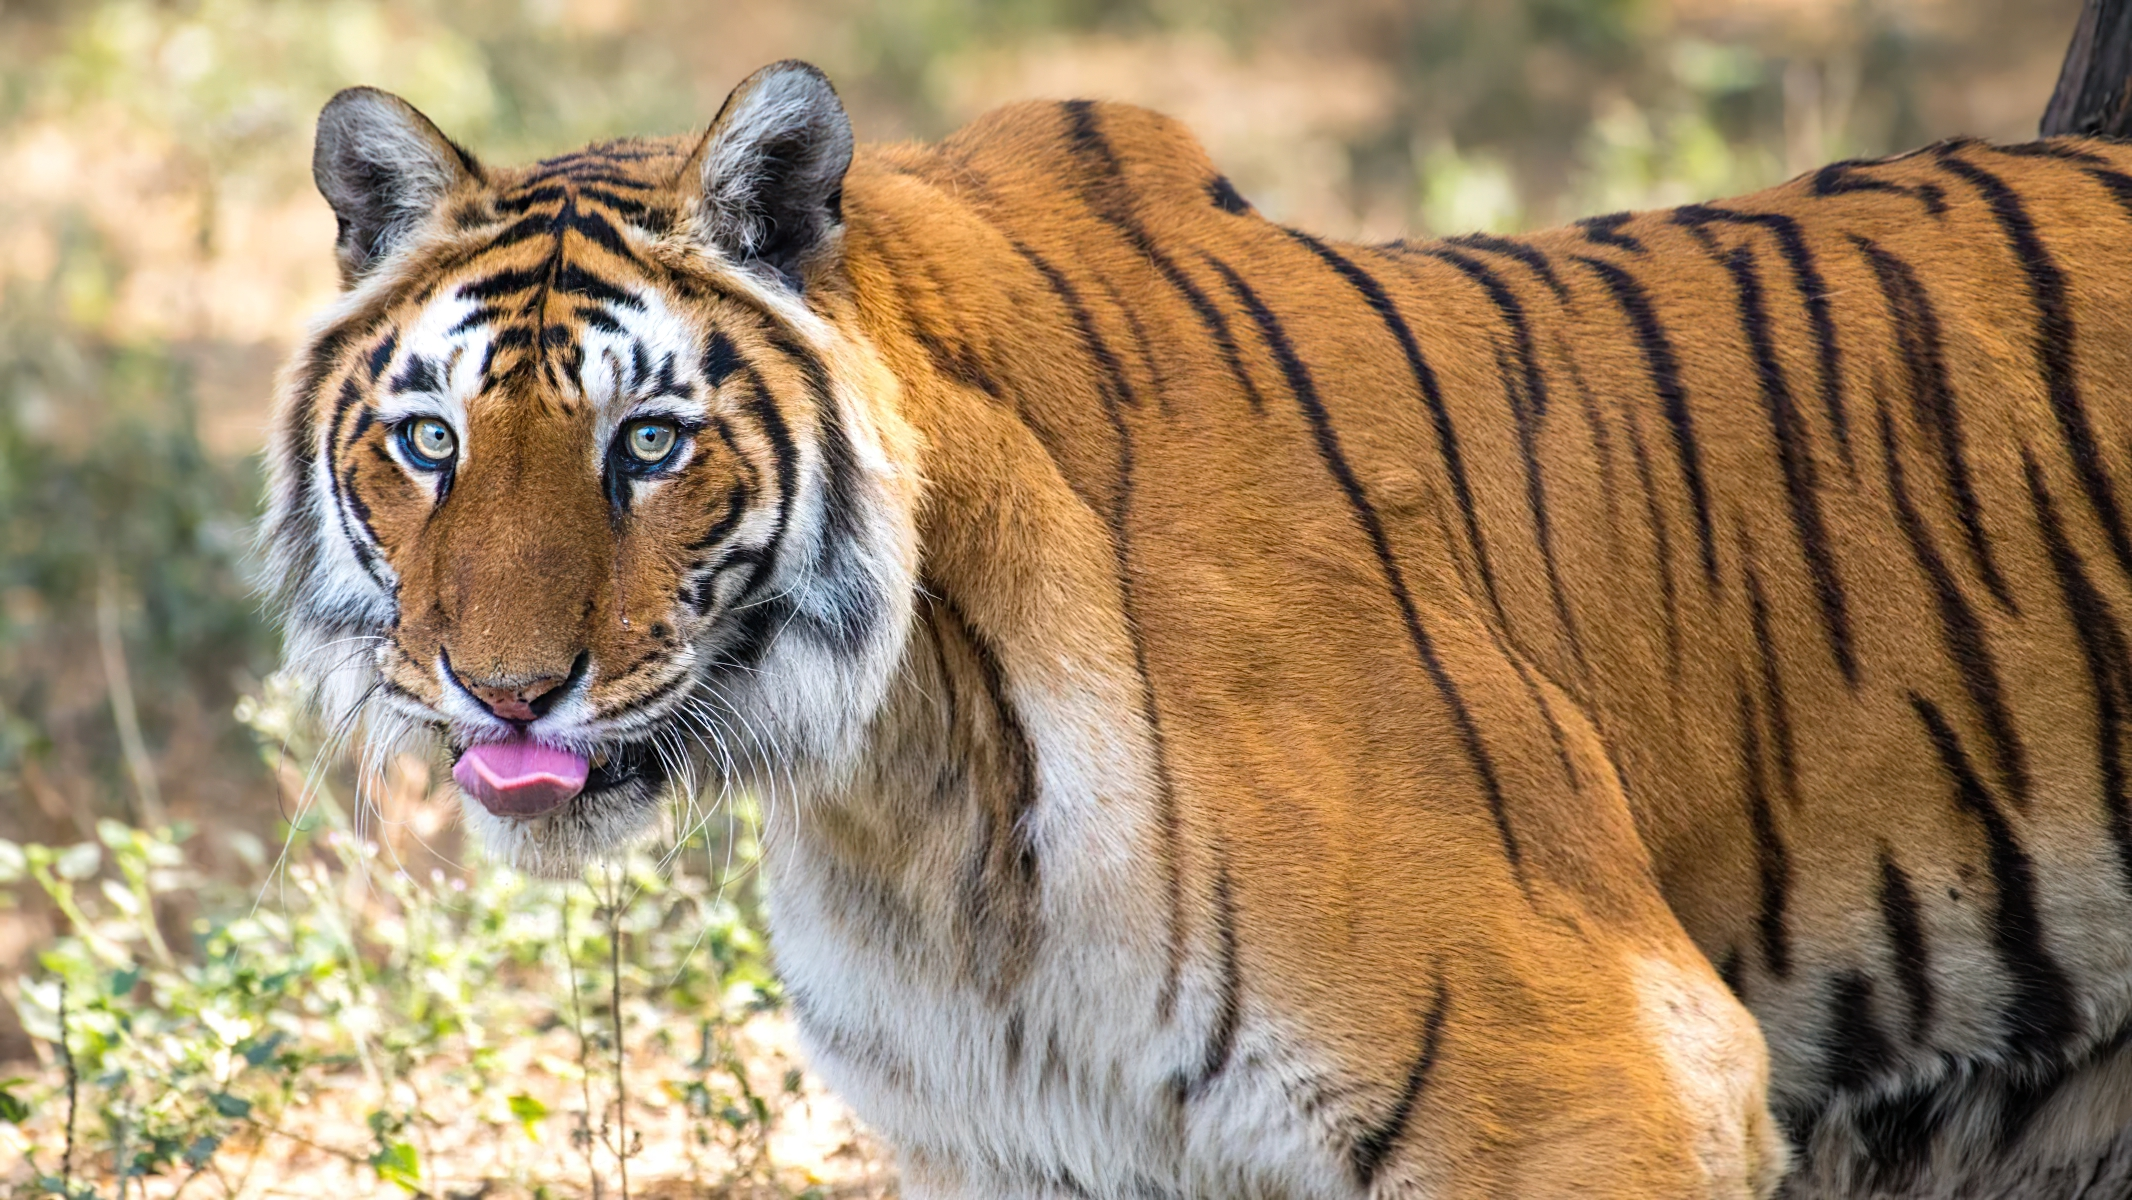tiger: (242, 67, 2109, 1200)
